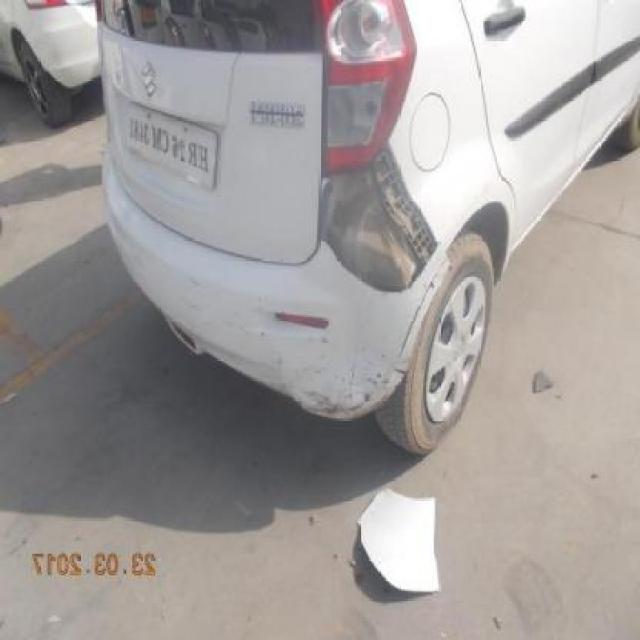damage: (320, 145, 442, 293), (293, 358, 411, 422)
